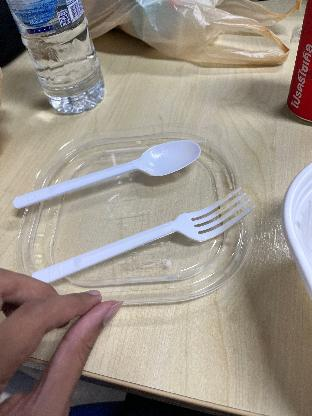Others: (32, 181, 249, 285), (3, 132, 209, 224)
Plastic Bottle: (1, 1, 109, 113)
